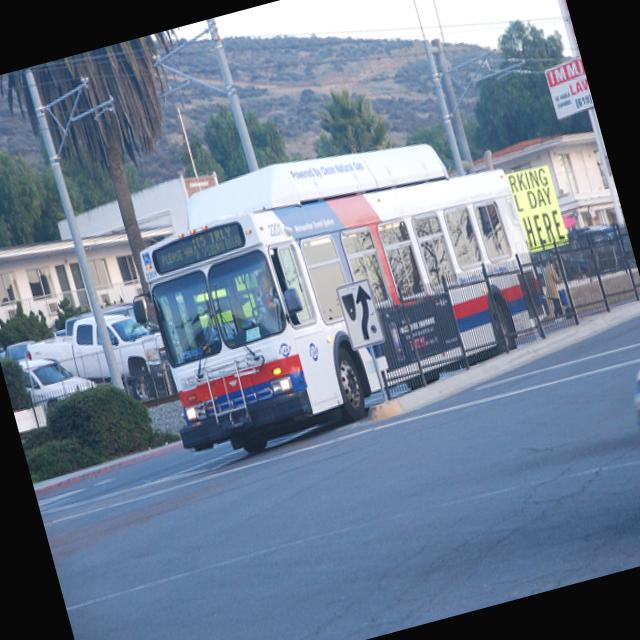Vehicle: (124, 145, 560, 472), (22, 298, 176, 427), (18, 343, 102, 421), (609, 325, 640, 525), (566, 220, 638, 282), (2, 336, 40, 364), (0, 343, 7, 360)
